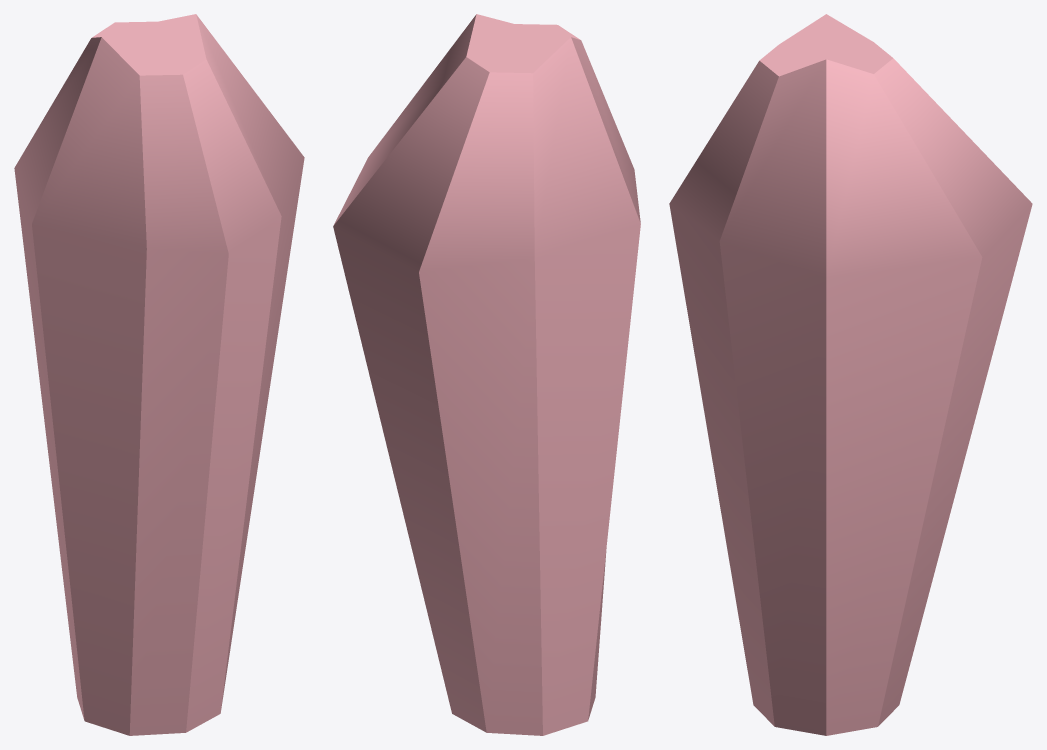
File: MagicCrystal.fbx
The picture shows the model from 3 angles, left to right: view 1: azimuth 30°, elevation 25°; view 2: azimuth 150°, elevation 25°; view 3: azimuth 270°, elevation 25°; orthographic projection.
Visible parts, largest first — view 1: MagicCrystal; view 2: MagicCrystal; view 3: MagicCrystal.
Boxes of the visible parts, x1=… form: MagicCrystal: x1=14, y1=14, x2=304, y2=735; MagicCrystal: x1=333, y1=14, x2=640, y2=735; MagicCrystal: x1=669, y1=14, x2=1032, y2=735.
Size of the model in its own units: 19.49 by 46.44 by 22.88.
